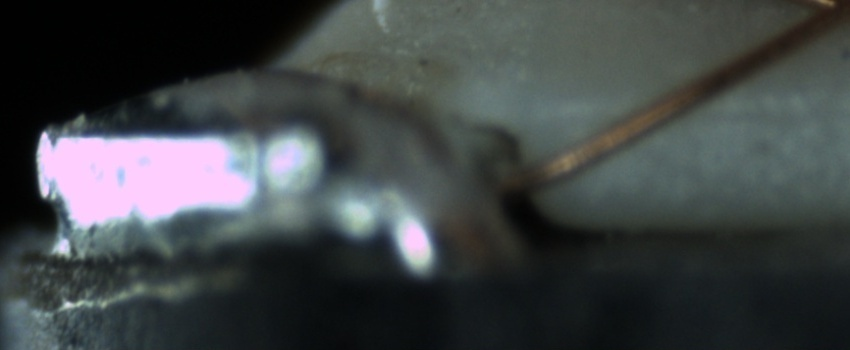DL: (608, 77, 850, 145)
